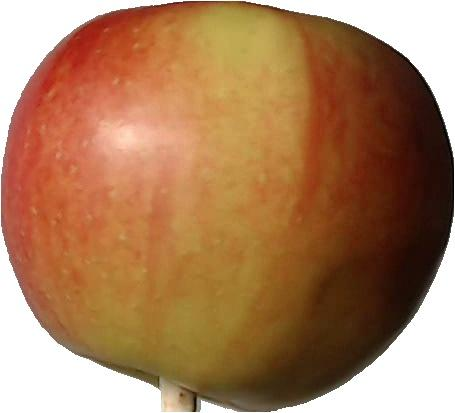Apple Ripe: (0, 7, 455, 413)
